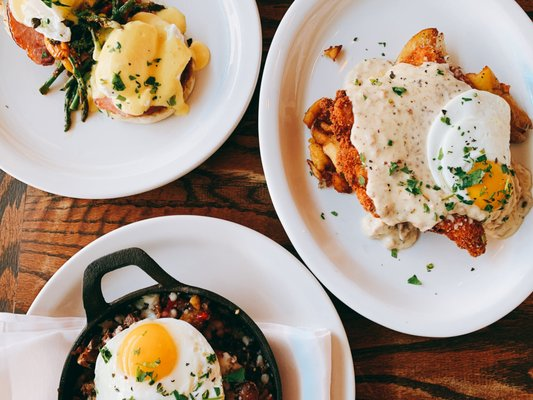sushi: (257, 0, 533, 365), (55, 248, 285, 400)
